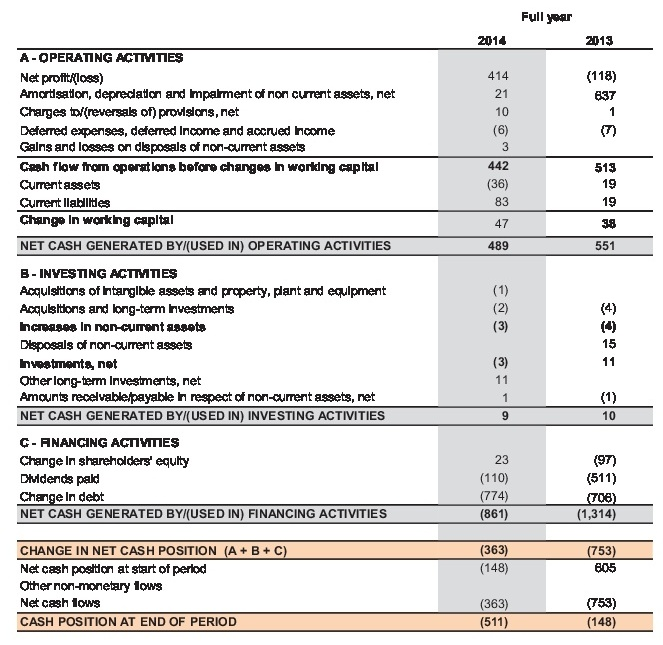table: (0, 0, 663, 645)
